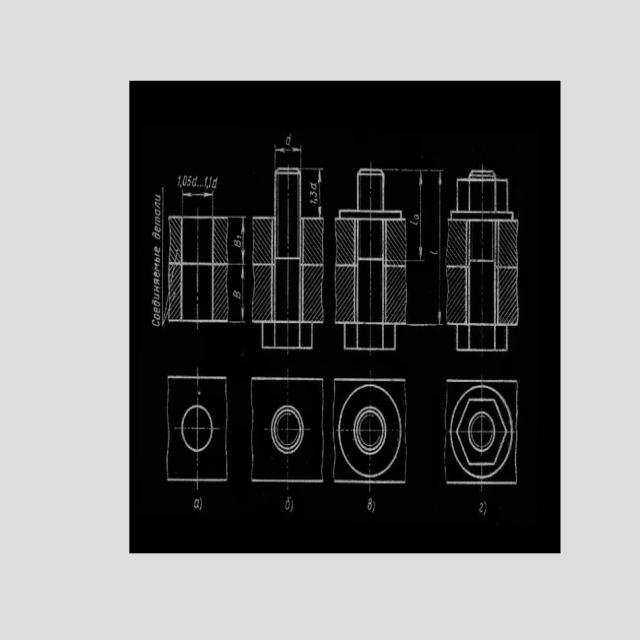marking_line: (408, 168, 444, 327), (408, 167, 427, 263), (301, 168, 324, 217), (230, 262, 247, 324), (180, 189, 214, 216), (230, 216, 247, 265), (274, 145, 303, 167)
numeric: (182, 175, 188, 187), (192, 175, 198, 187), (309, 191, 318, 199), (178, 174, 182, 187), (208, 176, 212, 188), (188, 176, 192, 187), (204, 176, 208, 187), (414, 213, 420, 220), (310, 200, 317, 205), (236, 235, 242, 240)
